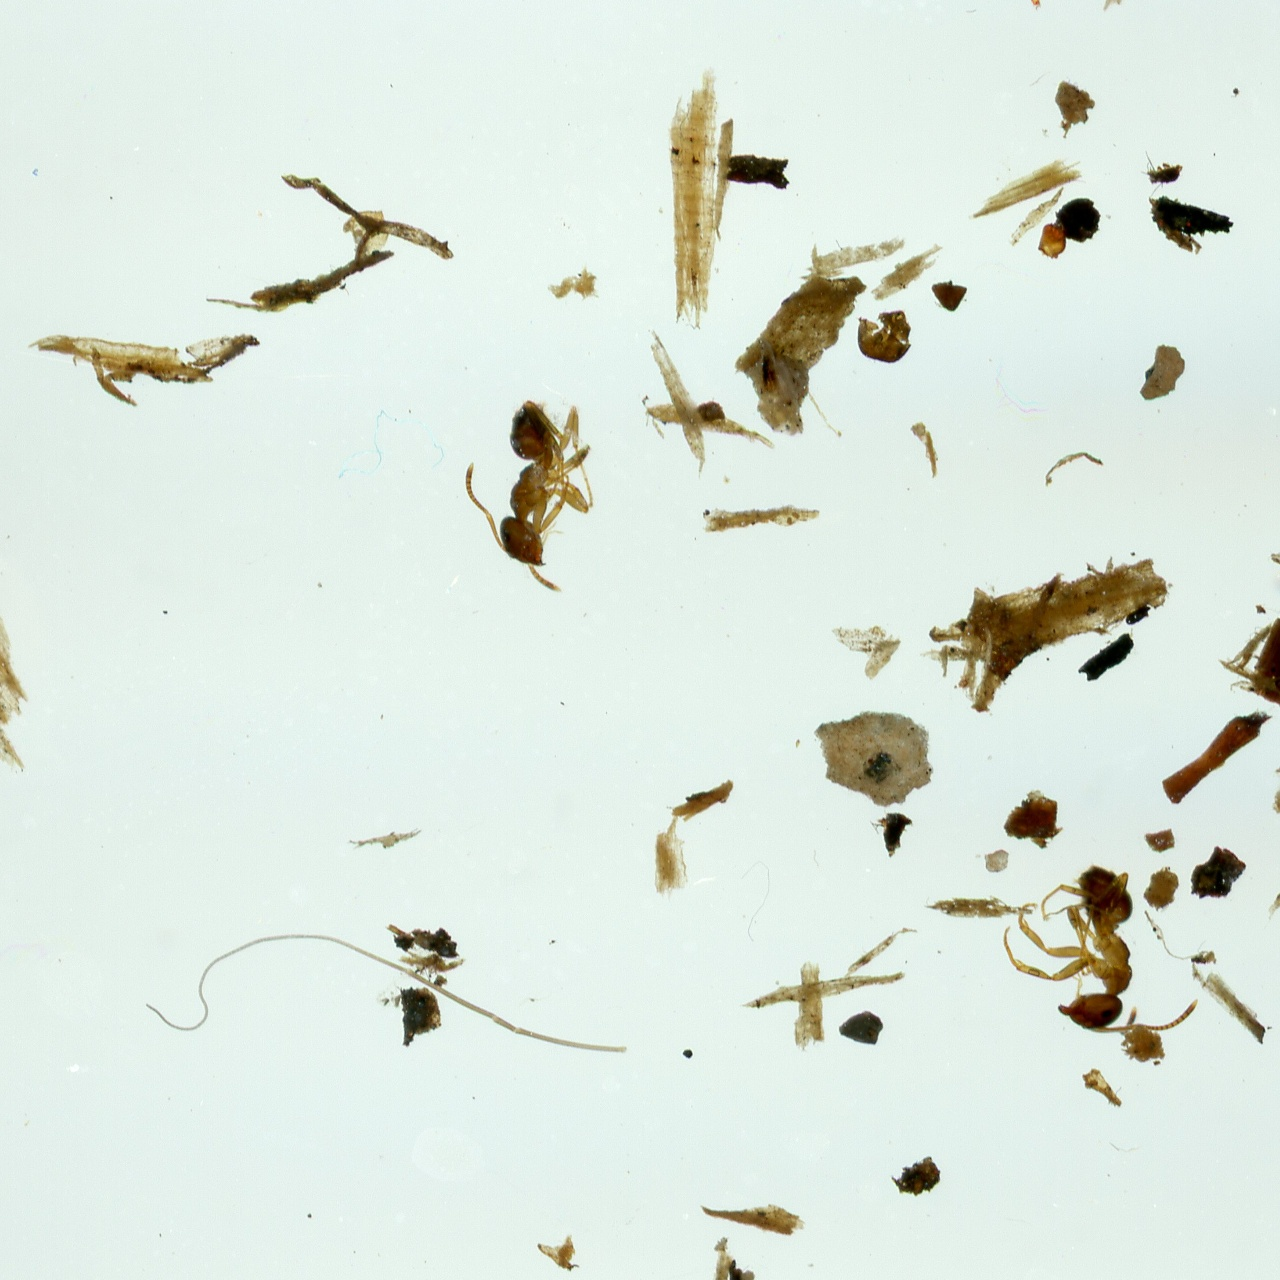arthropod: (1000, 859, 1202, 1037), (460, 393, 598, 599)
